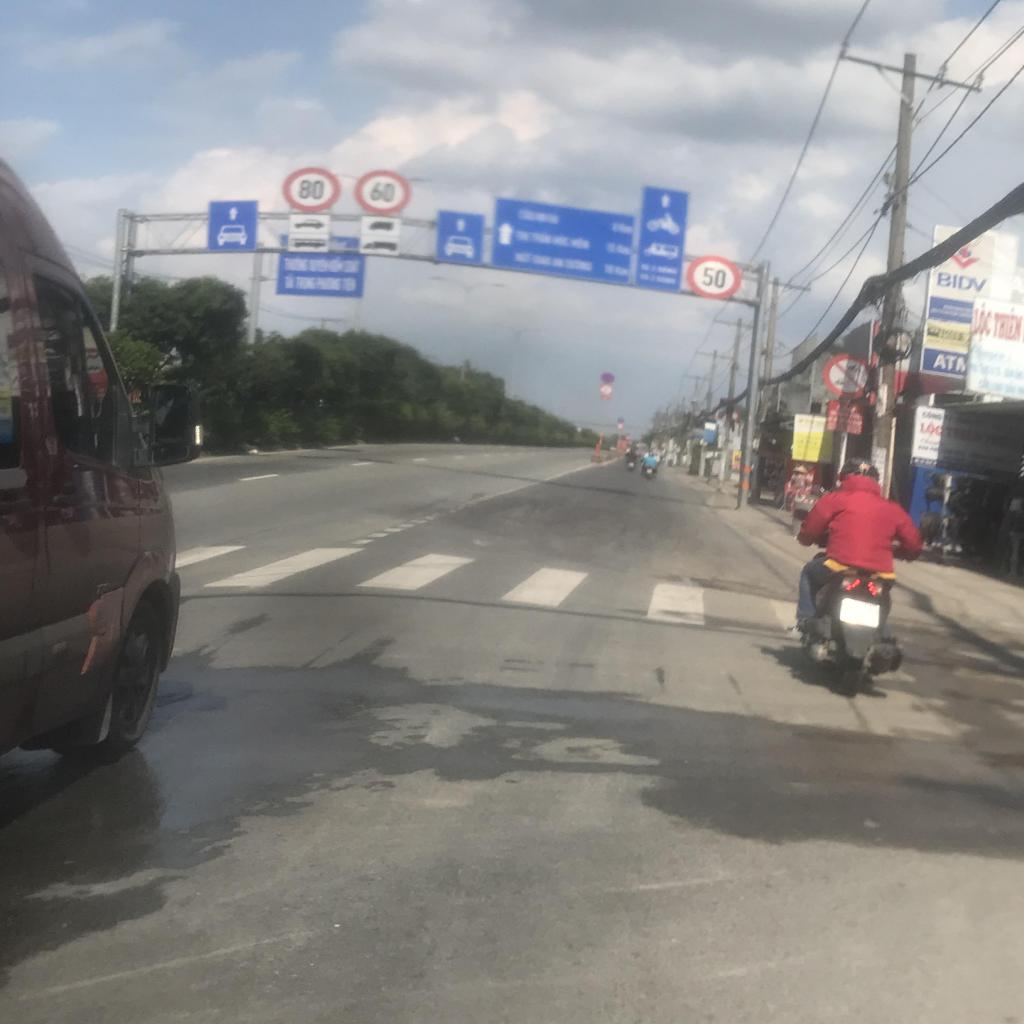cam_cac_loai_xe_3_banh: (822, 354, 872, 399)
duong_cho_xe_o_to: (206, 200, 258, 250), (436, 210, 483, 264)
khac: (492, 198, 634, 284), (634, 186, 687, 290), (284, 234, 330, 254), (363, 216, 401, 238), (289, 215, 330, 234), (359, 236, 400, 254)
toc_do_toi_da_50: (687, 256, 742, 300)
toc_do_toi_da_60: (353, 171, 415, 215)
toc_do_toi_da_80: (282, 168, 341, 212)
